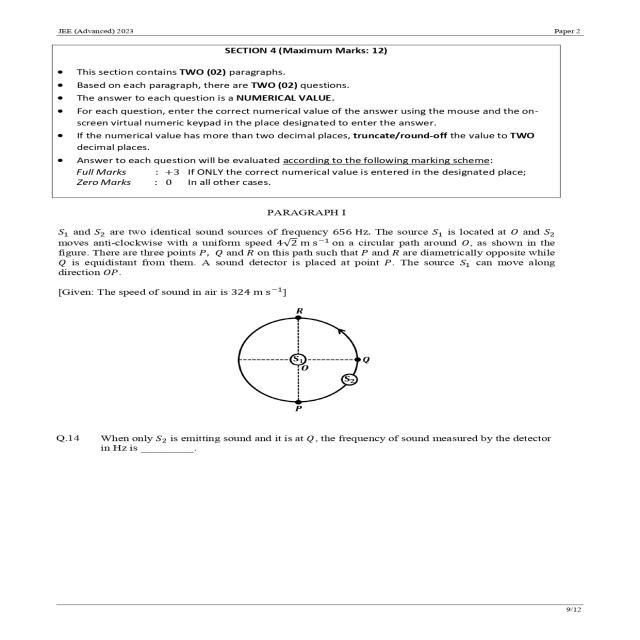Question_Answer_Block: (47, 228, 563, 413), (26, 422, 582, 460)
Question_Block: (43, 226, 563, 411), (26, 422, 578, 460)
Question_Paper_Area: (24, 45, 580, 462)
